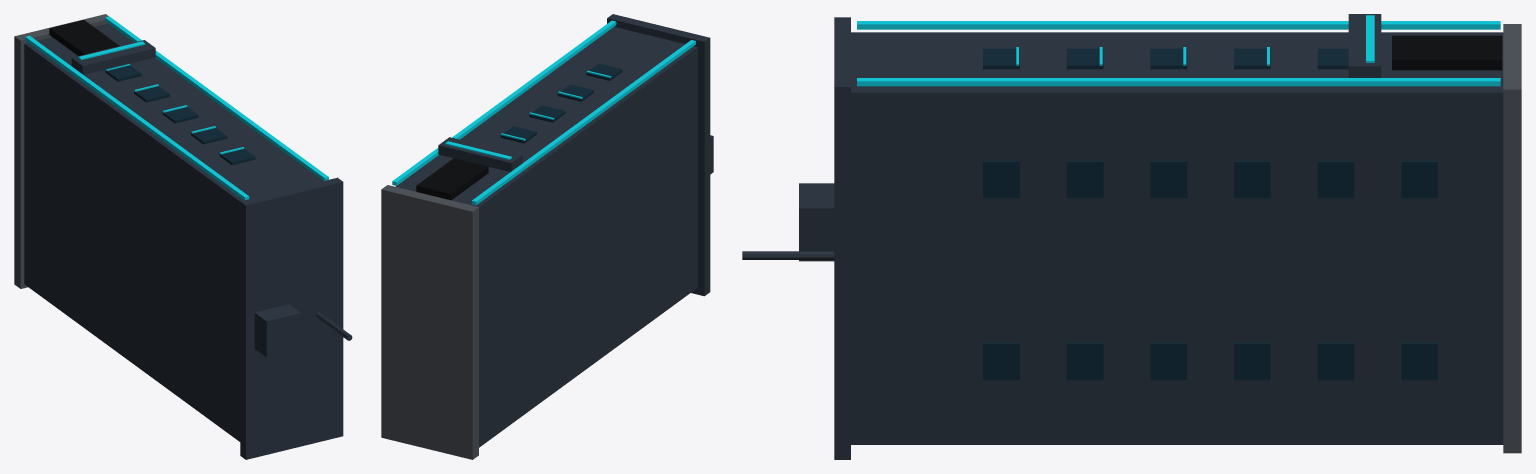
Rendered from ENV_building_tower.obj.
3 views of the same model, side by side, from view 1: azimuth 30°, elevation 25°; view 2: azimuth 150°, elevation 25°; view 3: azimuth 270°, elevation 25° (orthographic). The views are drawn at different scales.
Parts seen in each view (by area): view 1: ENV_building_tower; view 2: ENV_building_tower; view 3: ENV_building_tower.
Part boxes in pixels (<box>): ENV_building_tower: <box>14,14,352,459</box>; ENV_building_tower: <box>381,14,713,459</box>; ENV_building_tower: <box>742,14,1521,459</box>.
Size of the model in its own units: 1.97 by 5.11 by 9.32.
